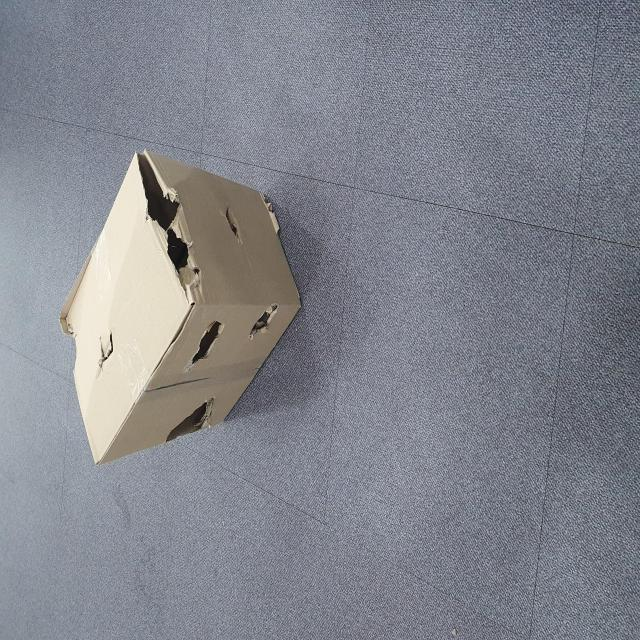damaged: (190, 227, 276, 345), (109, 298, 139, 388), (153, 336, 180, 398), (149, 161, 176, 212), (167, 440, 191, 494), (221, 388, 247, 430)
